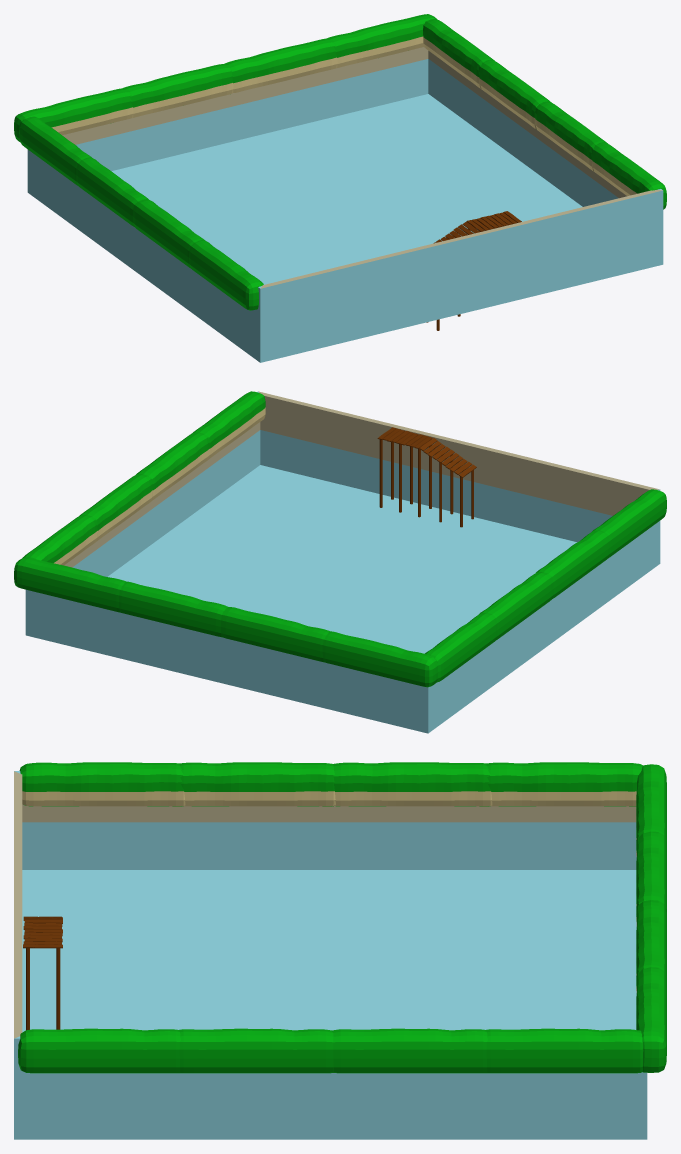
The model's file is Dock Test 3.fbx.
The picture shows the model from 3 angles, top to bottom: view 1: azimuth 30°, elevation 25°; view 2: azimuth 150°, elevation 25°; view 3: azimuth 270°, elevation 25°; orthographic projection. The views are drawn at different scales.
Parts seen in each view (by area): view 1: Cube, Cube.001, Cube.026, Cube.022, Cube.002; view 2: Cube, Cube.001, Cube.026, Cube.022, Cube.002; view 3: Cube, Cube.022, Cube.026, Cube.001, Cube.002.
Part boxes in pixels (left/top/right/bottom): Cube: left=27, top=47, right=663, bottom=362; Cube.001: left=14, top=14, right=436, bottom=142; Cube.026: left=19, top=116, right=263, bottom=310; Cube.022: left=423, top=18, right=666, bottom=209; Cube.002: left=426, top=211, right=521, bottom=330; Cube: left=25, top=391, right=660, bottom=733; Cube.001: left=14, top=557, right=438, bottom=687; Cube.026: left=425, top=489, right=666, bottom=682; Cube.022: left=22, top=391, right=265, bottom=565; Cube.002: left=377, top=427, right=476, bottom=527; Cube: left=14, top=771, right=647, bottom=1139; Cube.022: left=18, top=1028, right=643, bottom=1073; Cube.026: left=19, top=762, right=642, bottom=806; Cube.001: left=636, top=764, right=666, bottom=1072; Cube.002: left=23, top=916, right=62, bottom=1030.
Bounding box in the file's own units: 1124 × 242 × 1108.
